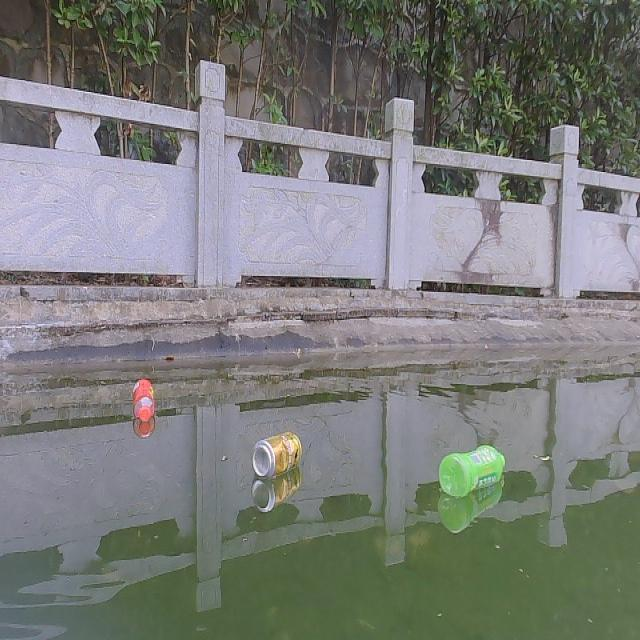bottle: (434, 441, 507, 496), (121, 370, 155, 426)
can: (248, 429, 305, 480)
